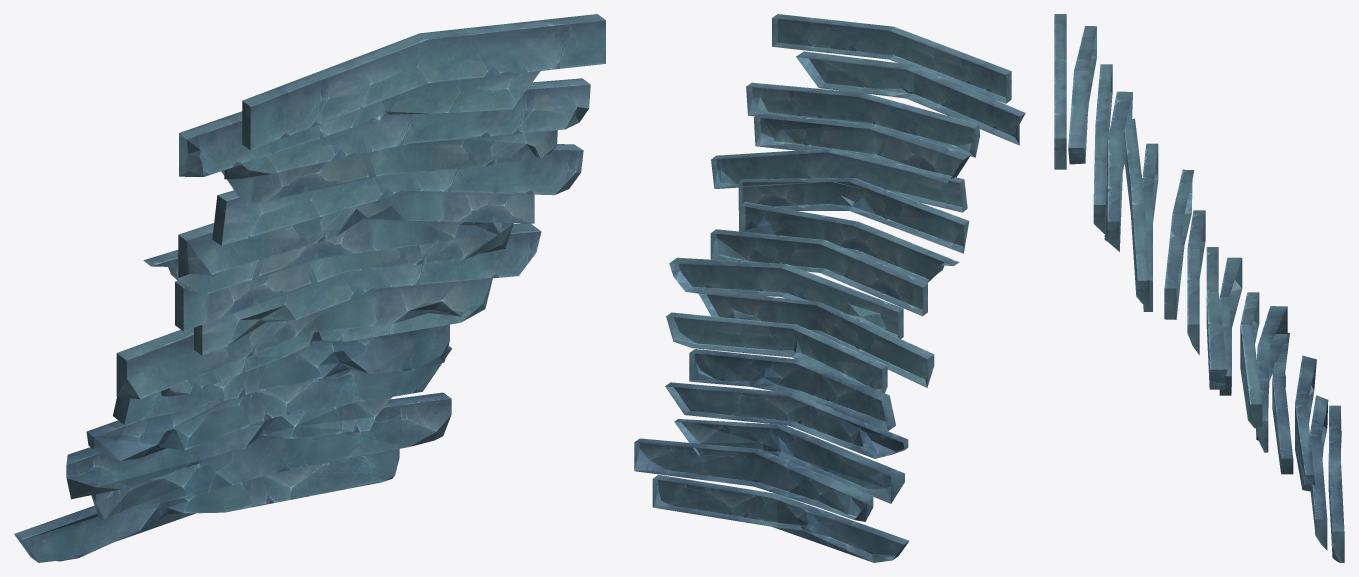
File: juqing_yewai_609_stair.obj
3 renders of one model, left to right at view 1: azimuth 30°, elevation 25°; view 2: azimuth 150°, elevation 25°; view 3: azimuth 270°, elevation 25°, orthographic. The views are drawn at different scales.
Parts seen in each view (by area): view 1: juqing_yewai_609_stair; view 2: juqing_yewai_609_stair; view 3: juqing_yewai_609_stair.
Boxes of the visible parts, <box> form: juqing_yewai_609_stair: <box>14,14,605,562</box>; juqing_yewai_609_stair: <box>634,14,1025,562</box>; juqing_yewai_609_stair: <box>1054,14,1344,562</box>.
Size of the model in its own units: 637 by 864 by 505.
Materials: 1 (1 with a texture image).
